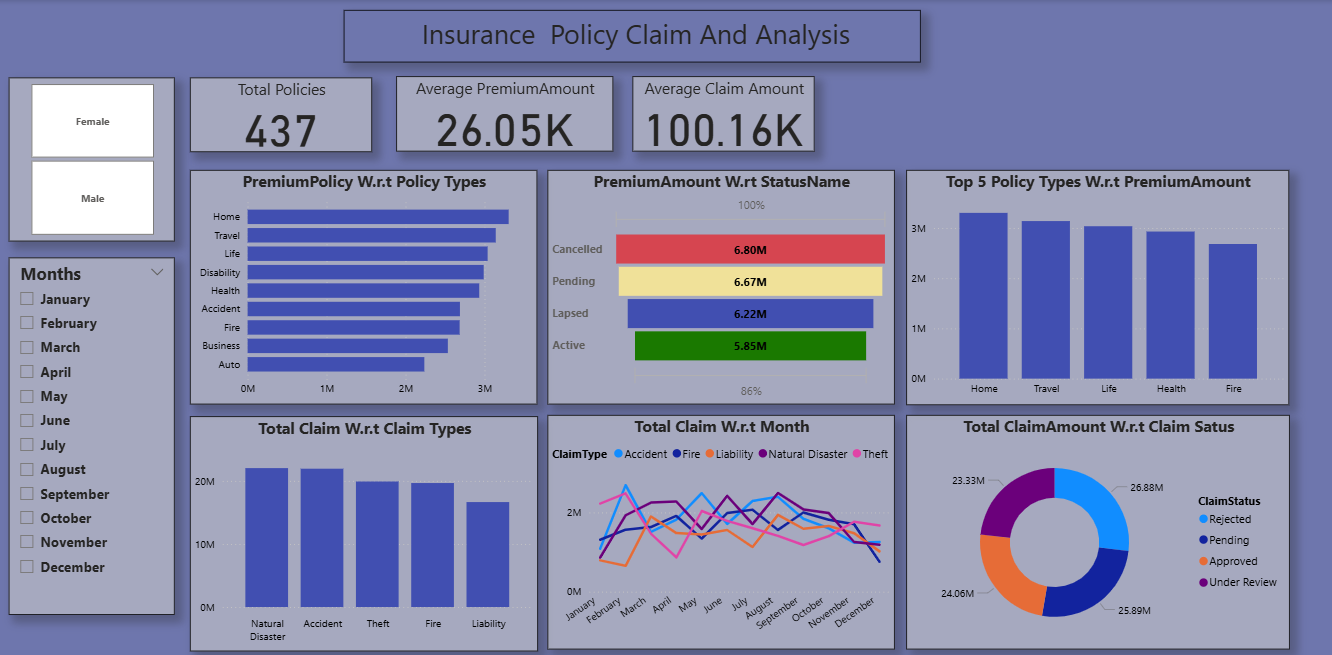

This screenshot's page, from the dashboard's own definition file:
{"tool":"powerbi","page":{"name":"Dashboard","canvas":[1590,790],"ordinal":0},"visuals":[{"type":"textbox","box":[409.3,12.3,687.6,62.8],"z":0},{"type":"slicer","fields":{"Values":["Fact_Claimevents.DateKey.Variation.Date Hierarchy.Month"]},"box":[10.9,307,197.8,425.6],"z":1},{"type":"slicer","fields":{"Values":["DIm_customers.Gender"]},"box":[10.9,92.8,197.8,195.1],"z":2},{"type":"card","title":"Total Policies","fields":{"Values":["Count(Fact_Policytransactions.PolicyID)"]},"box":[226.5,92.8,216.9,88.7],"z":3},{"type":"barChart","title":"PremiumPolicy W.r.t  Policy Types ","fields":{"Category":["DIm_PolicyType.TypeName"],"Y":["Sum(Fact_Policytransactions.PremiumAmount)"]},"box":[226.9,202.6,413.3,279.6],"z":4},{"type":"funnel","title":" PremiumAmount W.rt StatusName","fields":{"Category":["Dim_PolicyStatus.StatusName"],"Y":["Sum(Fact_Policytransactions.PremiumAmount)"]},"box":[652.3,202.6,413.3,279.6],"z":5},{"type":"columnChart","title":"Total Claim W.r.t Claim Types ","fields":{"Category":["Dim_claimtype.ClaimType"],"Y":["Sum(Fact_Claimevents.ClaimAmount)"]},"box":[226.5,495.2,414.7,279.7],"z":7},{"type":"clusteredColumnChart","title":"Top 5 Policy Types W.r.t PremiumAmount","fields":{"Y":["Sum(Fact_Policytransactions.PremiumAmount)"],"Category":["DIm_PolicyType.TypeName"]},"box":[1079.4,202.8,455.9,279.9],"z":8},{"type":"card","title":"Average Claim Amount","fields":{"Values":["Avg(Fact_Claimevents.ClaimAmount)"]},"box":[752.7,91.4,216.9,89.6],"z":9},{"type":"card","title":"Average PremiumAmount ","fields":{"Values":["Avg(Fact_PremimumPayments.PremiumAmount)"]},"box":[471.3,91.4,258.1,89.6],"z":10},{"type":"lineChart","title":"Total Claim W.r.t Month ","fields":{"Series":["Dim_claimtype.ClaimType"],"Y":["Sum(Fact_Claimevents.ClaimAmount)"],"Category":["Fact_Claimevents.DateKey.Variation.Date Hierarchy.Month"]},"box":[652.4,494.6,414,279.6],"z":11},{"type":"donutChart","title":"Total ClaimAmount W.r.t Claim Satus","fields":{"Category":["Fact_Claimevents.ClaimStatus"],"Y":["Sum(Fact_Claimevents.ClaimAmount)"]},"box":[1078.9,494.6,457,279.6],"z":12}]}

Visuals, with their boxes in screenshot pixels (x1, y1, x2, y2), scaled from the page's 1590x790 canvas onto the 1332x655 screenshot:
textbox: 343, 10, 919, 62
slicer - Fact_Claimevents.DateKey.Variation.Date Hierarchy.Month: 9, 255, 175, 607
slicer - DIm_customers.Gender: 9, 77, 175, 239
"Total Policies" card: 190, 77, 371, 150
"PremiumPolicy W.r.t  Policy Types " barChart: 190, 168, 536, 400
" PremiumAmount W.rt StatusName" funnel: 546, 168, 893, 400
"Total Claim W.r.t Claim Types " columnChart: 190, 411, 537, 642
"Top 5 Policy Types W.r.t PremiumAmount" clusteredColumnChart: 904, 168, 1286, 400
"Average Claim Amount" card: 631, 76, 812, 150
"Average PremiumAmount " card: 395, 76, 611, 150
"Total Claim W.r.t Month " lineChart: 547, 410, 893, 642
"Total ClaimAmount W.r.t Claim Satus" donutChart: 904, 410, 1287, 642
